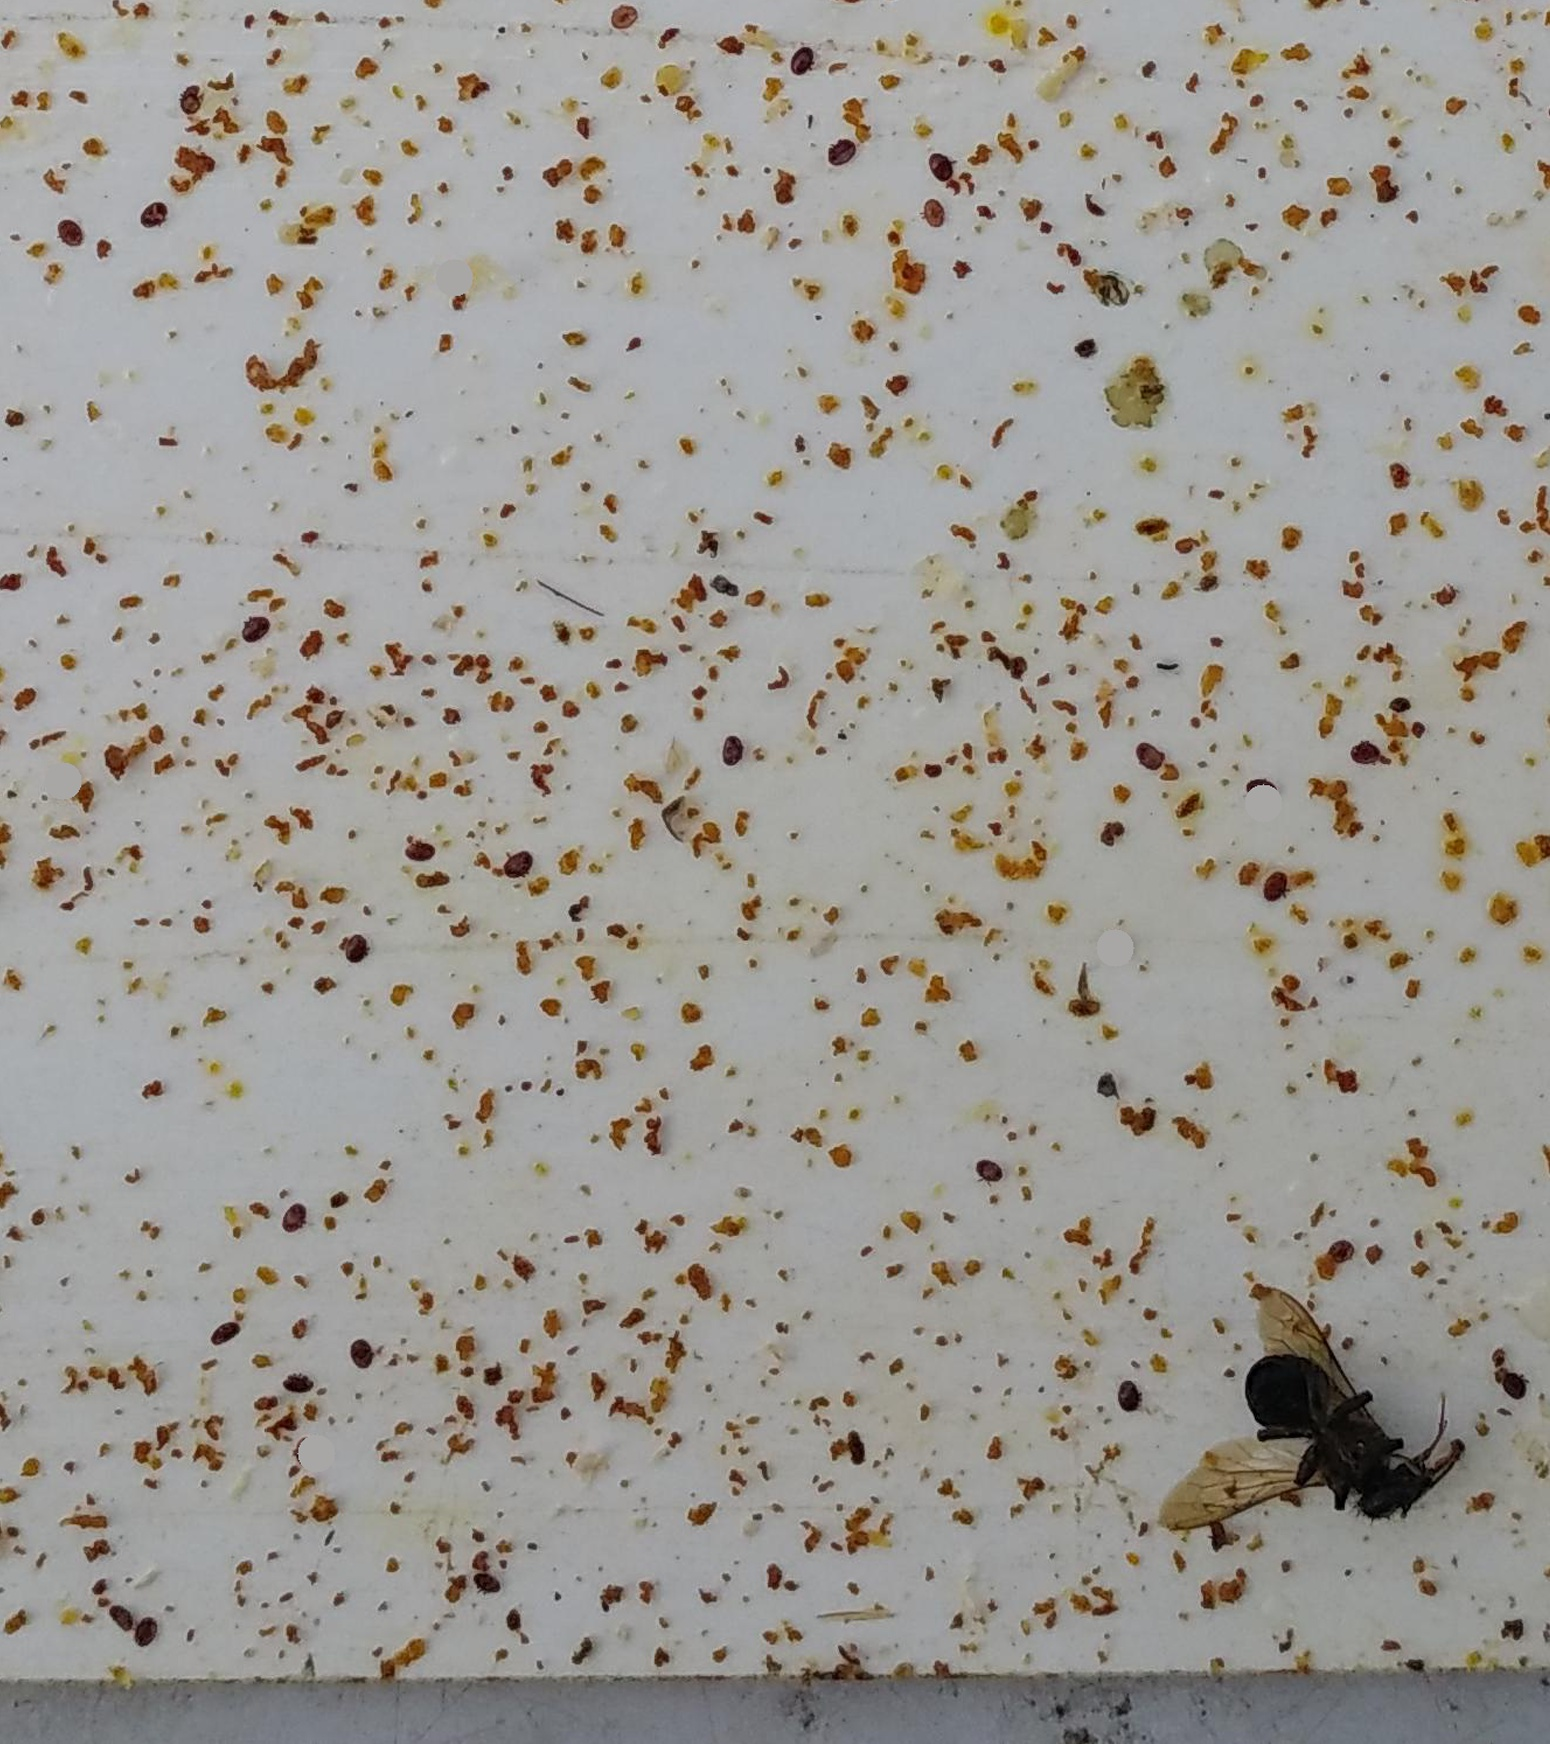Varroa: (607, 6, 637, 37), (1350, 739, 1378, 770), (175, 81, 203, 111), (281, 1203, 310, 1232), (1501, 1373, 1528, 1401), (506, 850, 534, 876), (405, 839, 432, 868), (476, 1570, 501, 1600), (287, 1369, 313, 1394), (132, 1618, 156, 1645), (350, 1337, 374, 1363), (721, 734, 744, 761), (1327, 1235, 1350, 1262), (1139, 745, 1162, 769), (212, 1315, 235, 1339), (1249, 772, 1272, 796), (244, 618, 266, 642), (790, 48, 812, 70), (61, 215, 82, 239), (977, 1153, 996, 1179), (932, 154, 946, 172), (1124, 1387, 1137, 1401), (836, 142, 850, 157), (296, 1443, 310, 1457), (151, 206, 165, 220), (931, 200, 943, 215), (1267, 881, 1279, 894), (346, 944, 358, 957)
